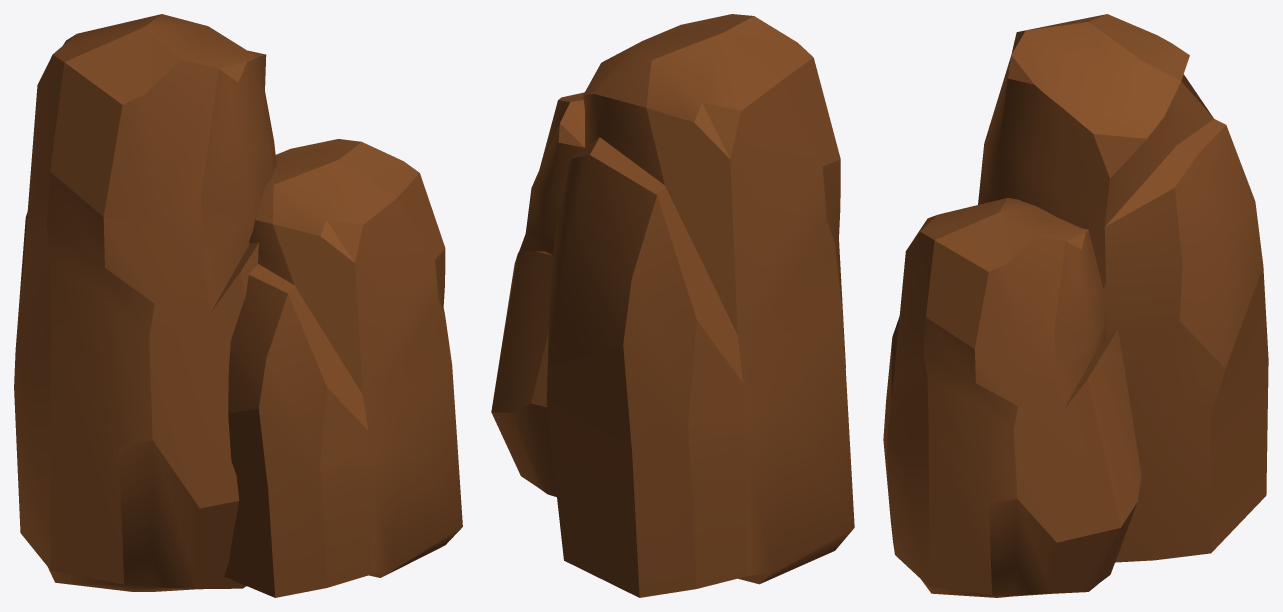
File: rock-large-3.glb
3 views of the same model, side by side, from view 1: azimuth 30°, elevation 25°; view 2: azimuth 150°, elevation 25°; view 3: azimuth 270°, elevation 25° (orthographic). The views are drawn at different scales.
Parts seen in each view (by area): view 1: Rock_Large_3; view 2: Rock_Large_3; view 3: Rock_Large_3.
Part boxes in pixels (x1,y1,x2,y2): Rock_Large_3: [14, 14, 462, 597]; Rock_Large_3: [491, 14, 854, 597]; Rock_Large_3: [883, 14, 1268, 597].
Size of the model in its own units: 5.31 by 7.43 by 5.19.
1 material, 1 textured.
